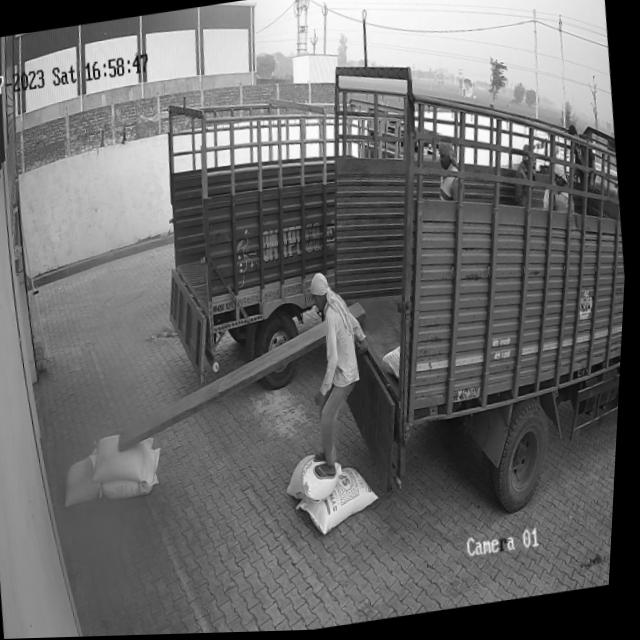sack: (295, 466, 388, 542), (94, 428, 163, 485), (286, 450, 351, 510), (100, 449, 170, 503), (63, 454, 108, 507)
